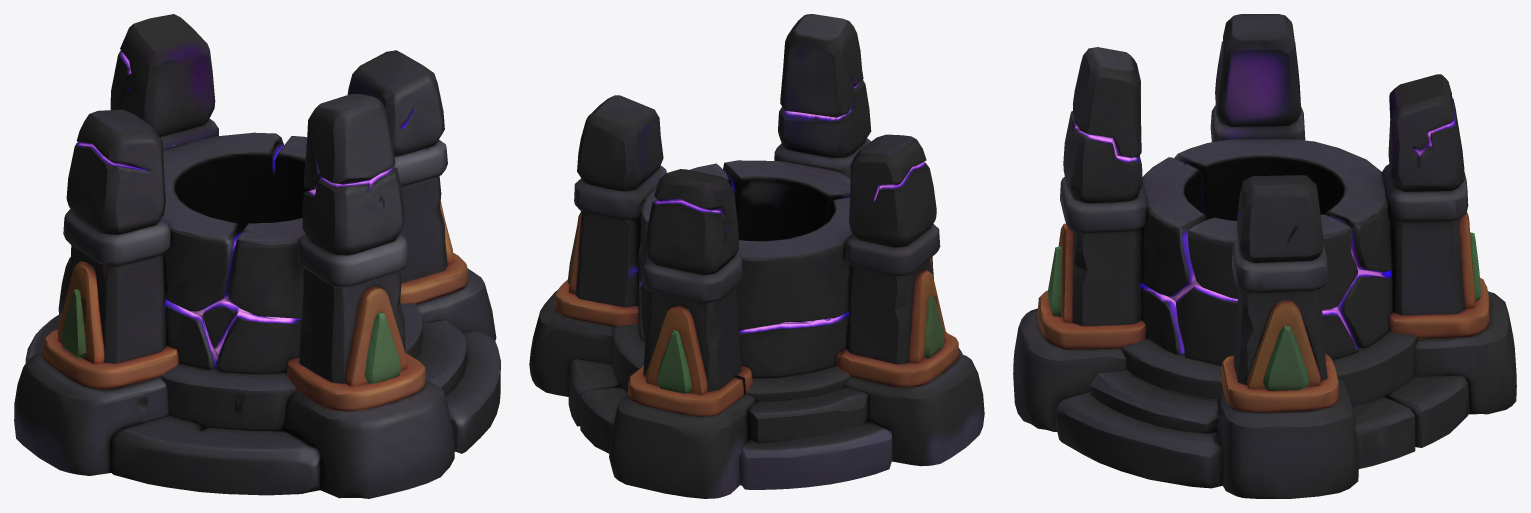
File: Galvadore_Dark Magic.fbx
3 views of the same model, side by side, from view 1: azimuth 30°, elevation 25°; view 2: azimuth 150°, elevation 25°; view 3: azimuth 270°, elevation 25° (orthographic). The views are drawn at different scales.
Parts seen in each view (by area): view 1: Dark_Magic; view 2: Dark_Magic; view 3: Dark_Magic.
Boxes of the visible parts, x1,y1,x2,y2 form: Dark_Magic: [14, 14, 500, 498]; Dark_Magic: [529, 14, 984, 498]; Dark_Magic: [1013, 14, 1516, 498].
Size of the model in its own units: 166 by 125 by 166.
Materials: 1 (1 with a texture image).
